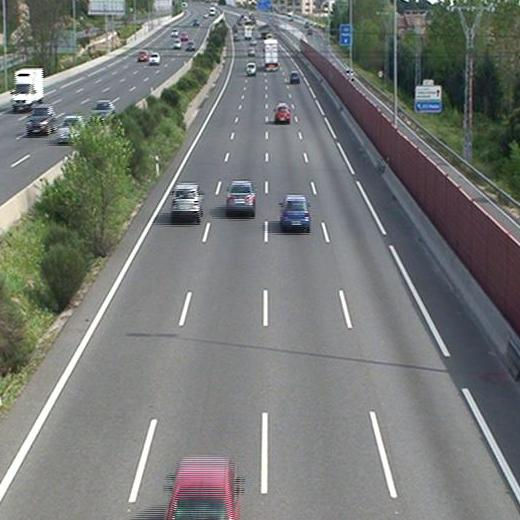car: (165, 460, 241, 520), (171, 182, 202, 221), (278, 195, 310, 230), (226, 182, 258, 215), (273, 104, 292, 124), (289, 71, 299, 82)
truck: (262, 39, 279, 72)
van: (245, 62, 257, 76)
